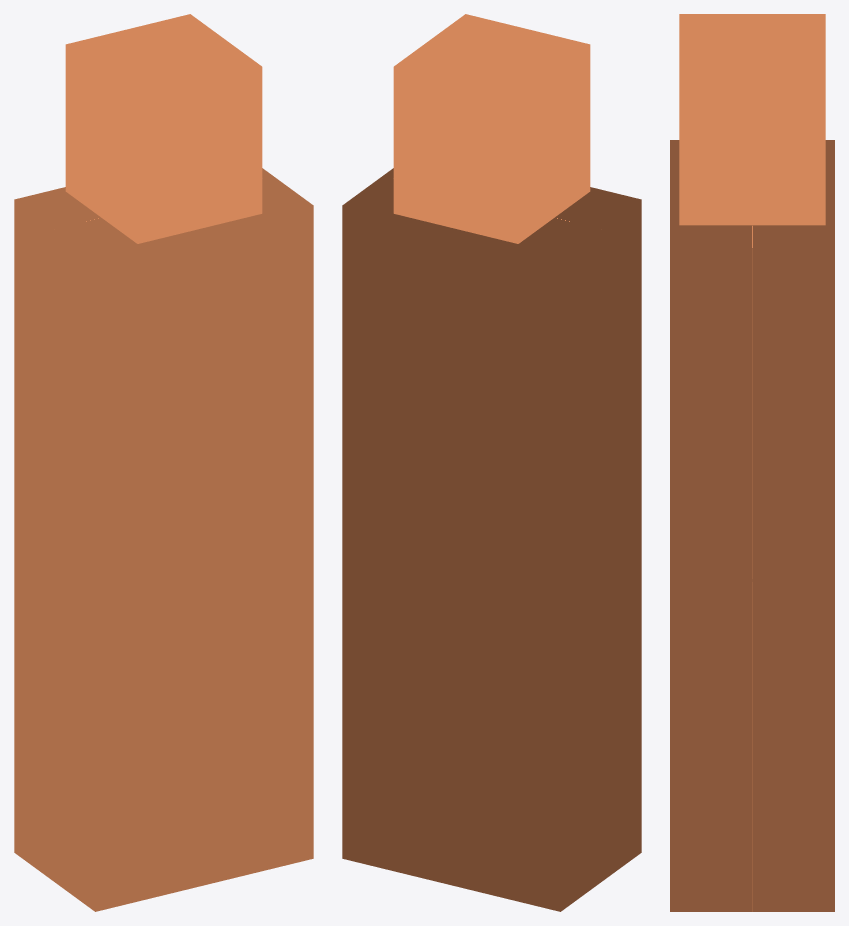
3 renders of one model, left to right at view 1: azimuth 30°, elevation 25°; view 2: azimuth 150°, elevation 25°; view 3: azimuth 270°, elevation 25°, orthographic.
Parts seen in each view (by area): view 1: Root; view 2: Root; view 3: Root.
Boxes of the visible parts, x1=… form: Root: x1=14, y1=14, x2=313, y2=911; Root: x1=342, y1=14, x2=641, y2=911; Root: x1=670, y1=14, x2=834, y2=911.
Size of the model in its own units: 0.56 by 1.96 by 0.36.
